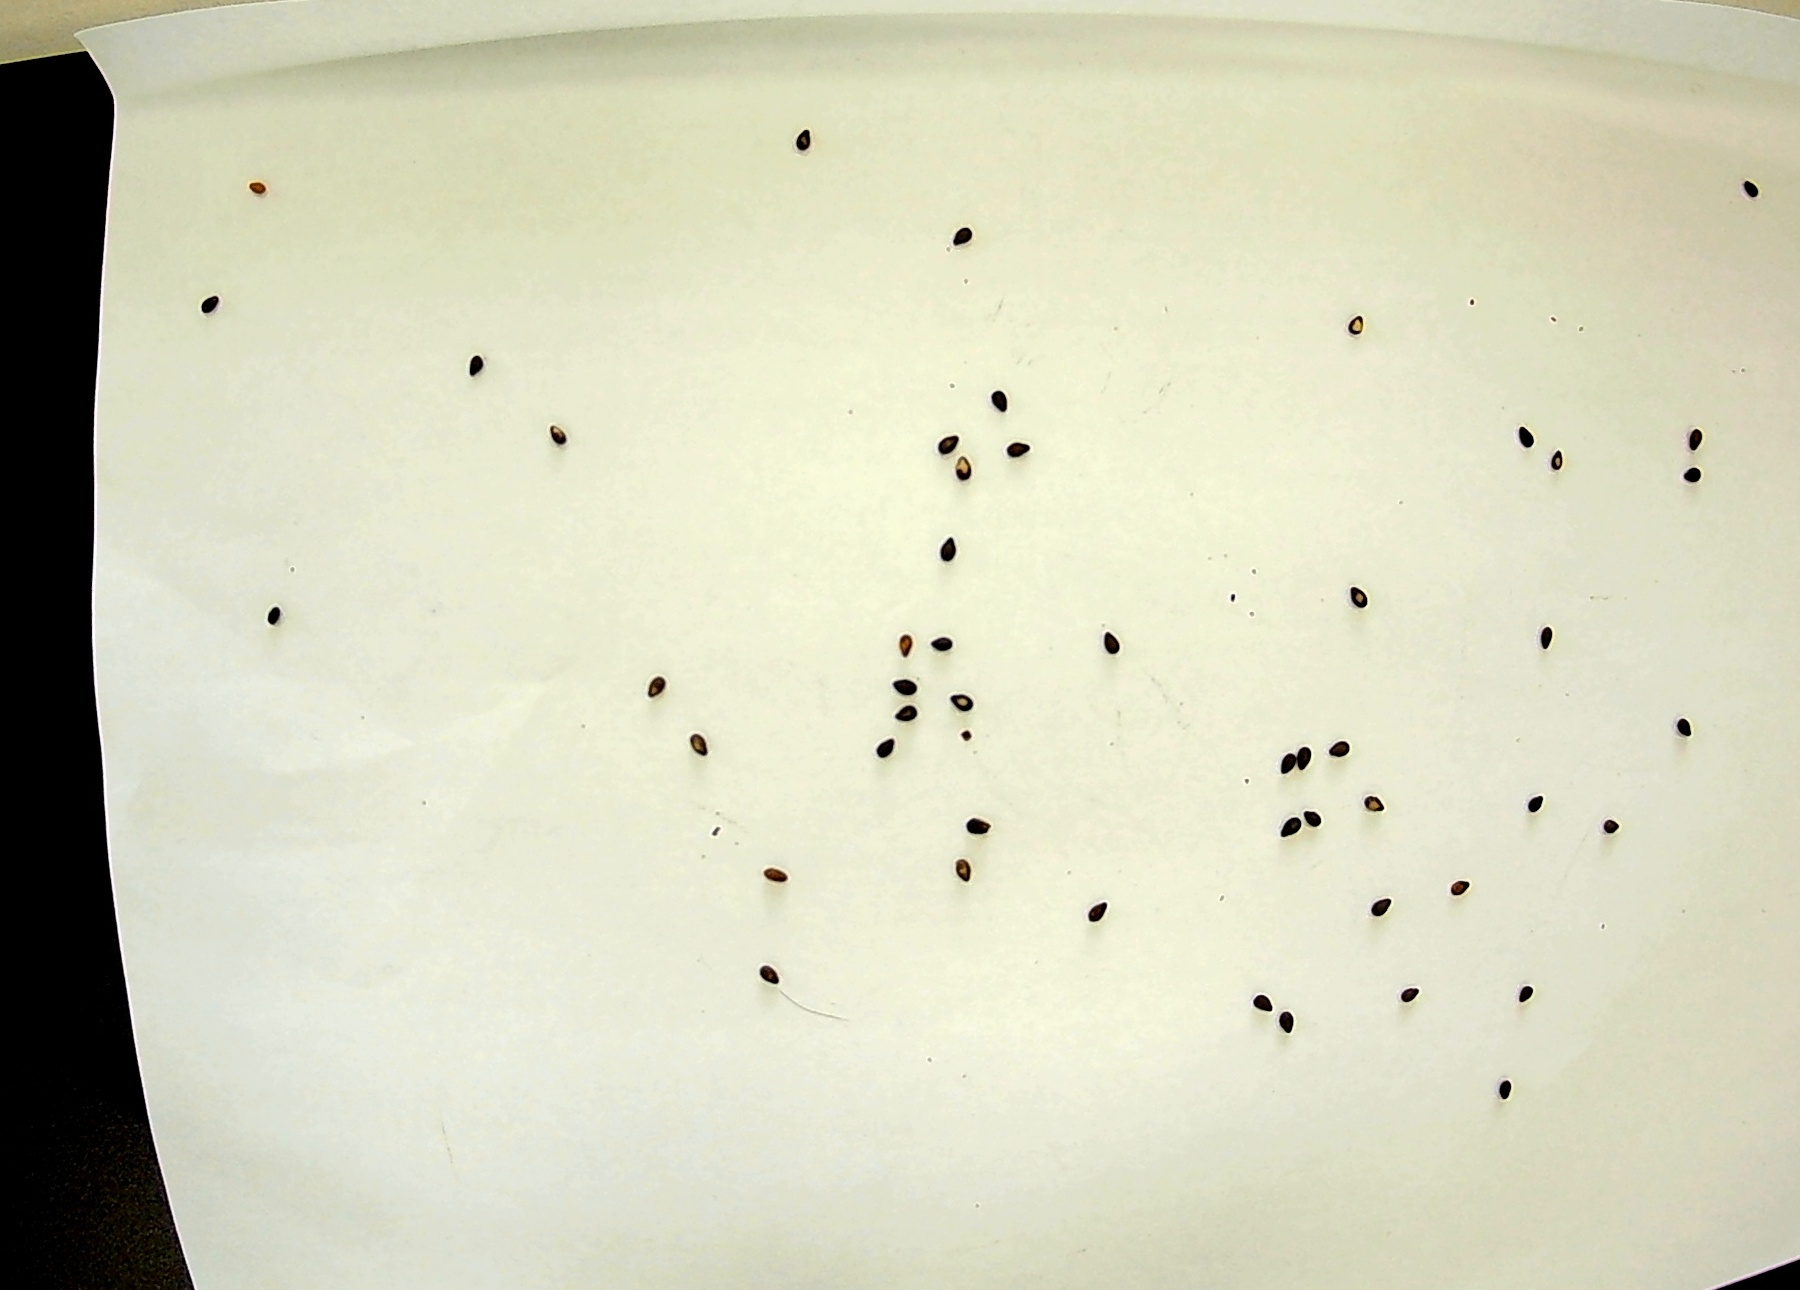sesami: (929, 616, 968, 674), (525, 415, 580, 450), (740, 956, 793, 993), (1492, 1062, 1531, 1110), (940, 680, 991, 713), (638, 670, 684, 706), (462, 346, 501, 388), (1087, 898, 1126, 940), (1084, 620, 1122, 662), (871, 741, 920, 773), (954, 807, 1005, 838), (1387, 983, 1434, 1015), (1355, 792, 1397, 828), (1518, 779, 1561, 814), (1365, 892, 1407, 927), (1000, 431, 1041, 466), (887, 627, 924, 665), (787, 110, 816, 156), (932, 524, 968, 560), (1503, 979, 1539, 1015), (887, 669, 922, 704), (751, 864, 791, 894), (887, 704, 928, 733), (1274, 814, 1305, 852), (1321, 732, 1353, 766), (1342, 314, 1377, 346), (1725, 181, 1767, 208), (1658, 715, 1700, 741), (1673, 427, 1711, 457), (1673, 462, 1711, 491), (1298, 739, 1321, 783), (247, 175, 271, 216), (193, 292, 223, 324), (1340, 584, 1372, 614), (950, 852, 975, 891), (685, 725, 710, 762), (950, 221, 980, 253), (985, 384, 1012, 417), (1273, 750, 1295, 789), (1439, 881, 1480, 900), (1527, 625, 1554, 653), (1305, 806, 1327, 839), (935, 424, 961, 452), (947, 457, 974, 484), (1592, 815, 1621, 840), (1277, 1004, 1295, 1043), (1511, 424, 1538, 450), (264, 598, 280, 632), (1252, 988, 1273, 1016), (1546, 445, 1568, 469)
